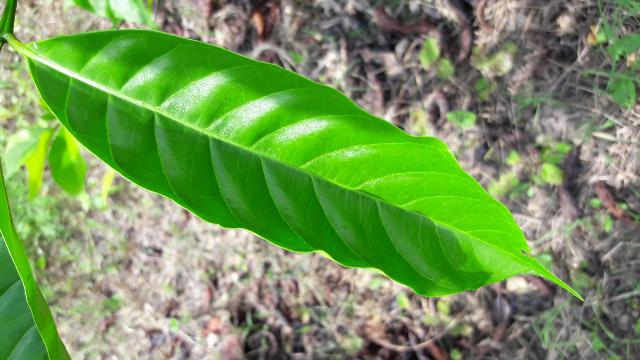healthy: (27, 30, 585, 302)
